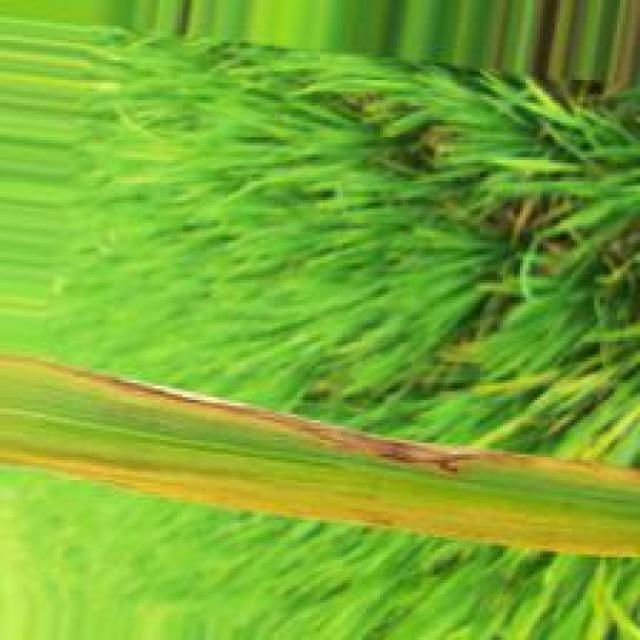Leaf_Blast: (54, 371, 536, 470)
